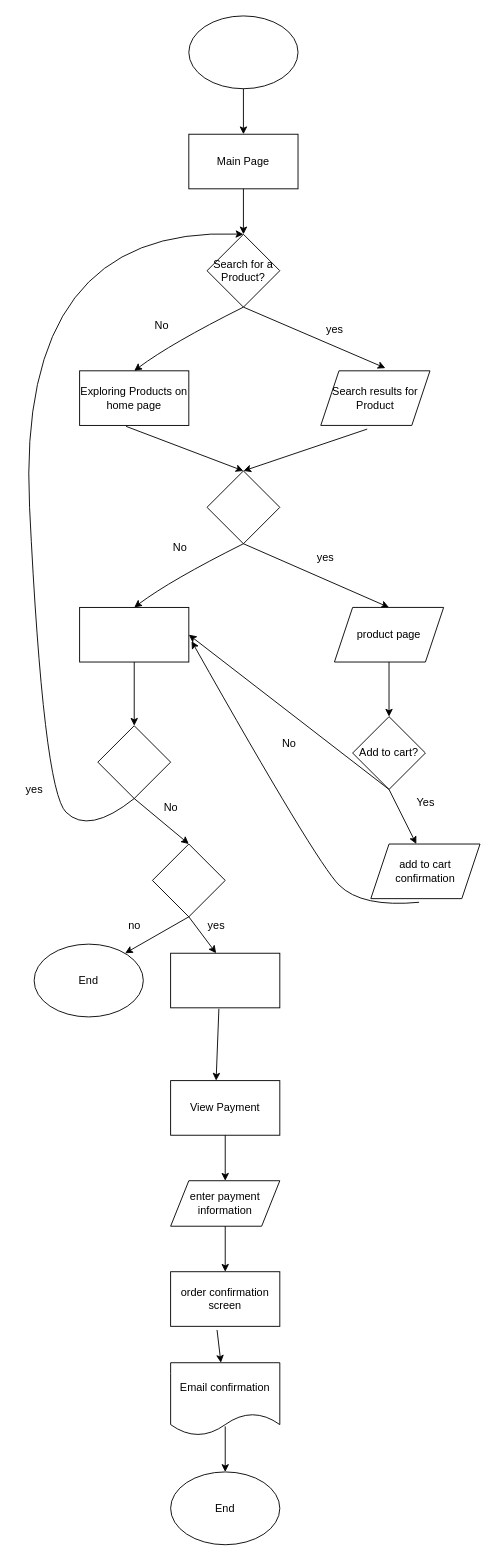
The diagram is 496 pixels wide and 1561 high, and some of its shapes have lost their labels. The centre of each missing label's shape, as x and y in pixels:
checkout?: (188,880)
Continue shopping: (134,634)
Start: (243,52)
View Cart: (225,980)
want to continue shopping?: (134,762)
want to view a product?: (243,507)
